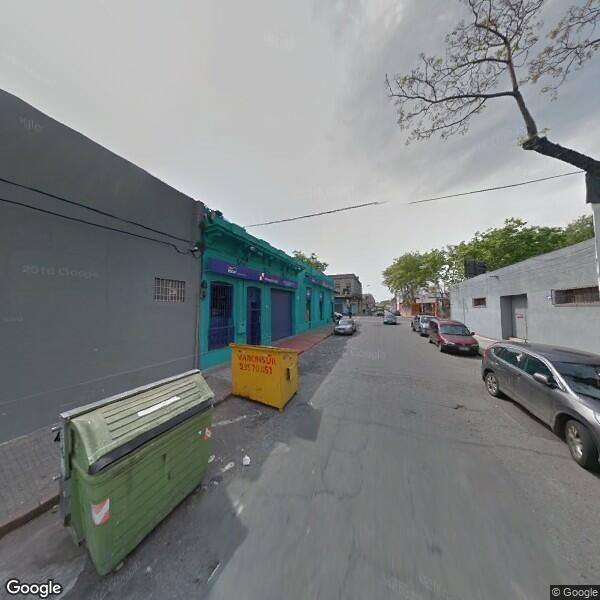Dechets: (221, 459, 235, 474), (241, 454, 252, 466), (209, 454, 216, 462)
Trash: (50, 367, 218, 581)
